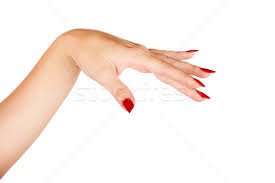hand: (45, 18, 241, 124)
